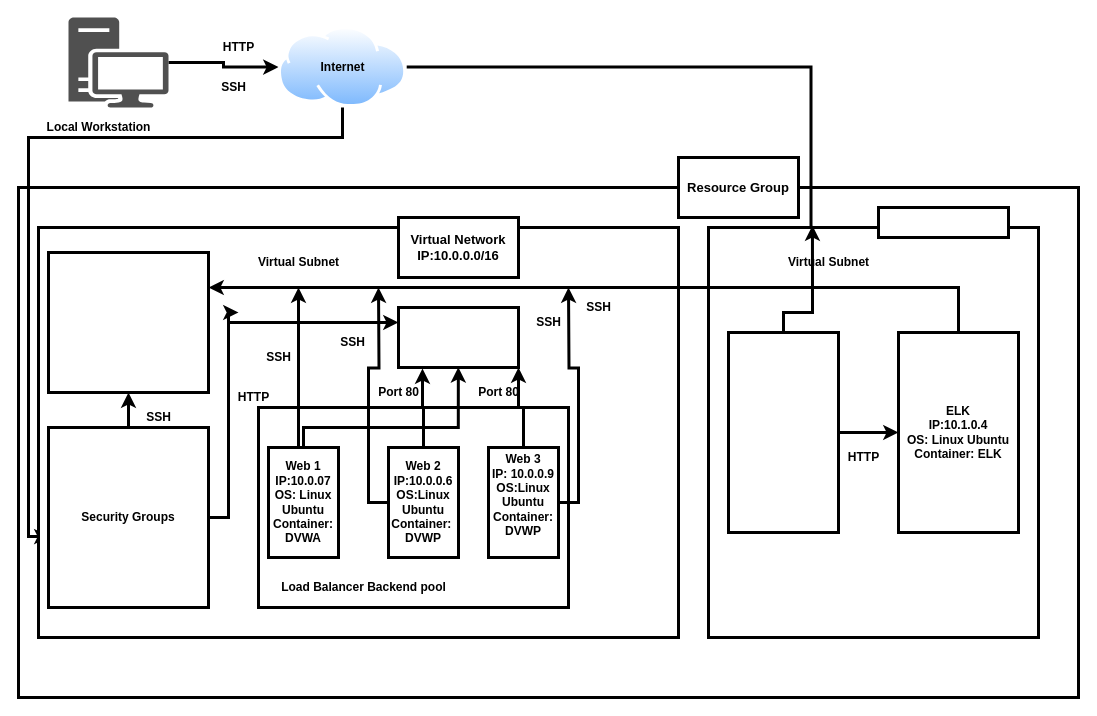
This 1097x716 diagram has some shape labels left out. Here are the shapes that lost their labels. From the top down, the centre of each, then its label:
At (x=943, y=222): "Virtual Network IP:10.1.0.0/16".
At (x=128, y=322): "Jump Box VM Ansible IP 10.0.0.4 OS: Linux (Ubuntu) Containers: Ansible".
At (x=458, y=337): "Load Balancer".
At (x=783, y=432): "Security Group Allow SSH Allow port 5601".
